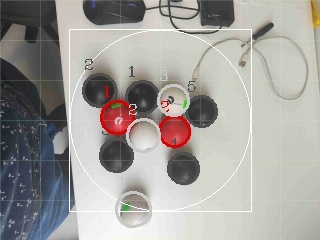Pelota blanca: (255, 35, 310, 100), (113, 191, 152, 228), (127, 117, 160, 153), (157, 83, 190, 117)
Pelota negra: (0, 57, 42, 240), (81, 0, 146, 27), (81, 73, 119, 108), (99, 137, 134, 174), (165, 151, 200, 186), (125, 79, 159, 114), (185, 95, 219, 129)
Pelota roja: (99, 97, 136, 136), (159, 115, 192, 148)
